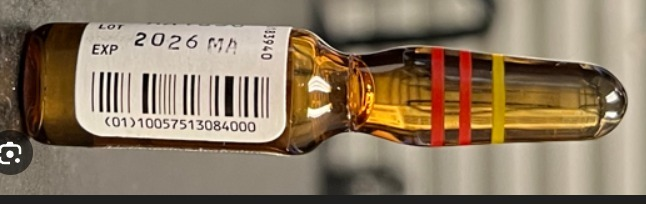barcode: (113, 77, 275, 148)
